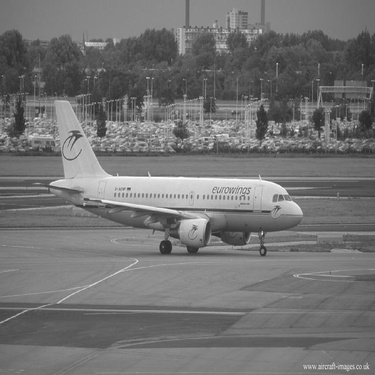airplane: (38, 73, 332, 285)
